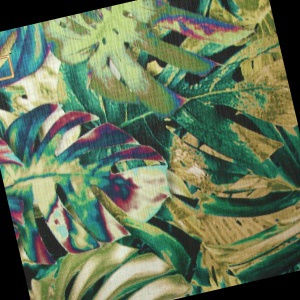square: (1, 53, 16, 85)
